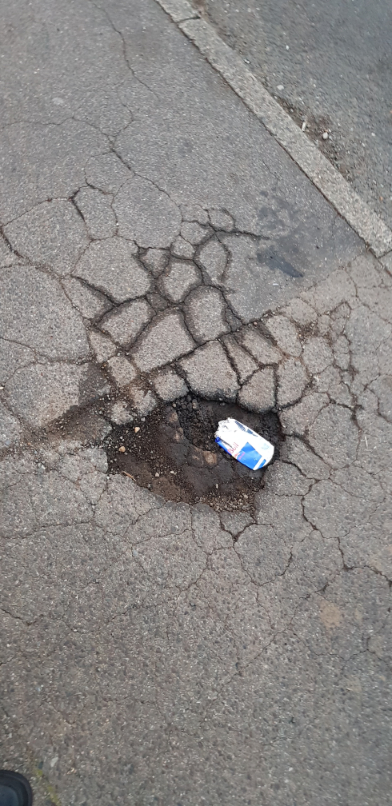pothole: (100, 387, 293, 521)
